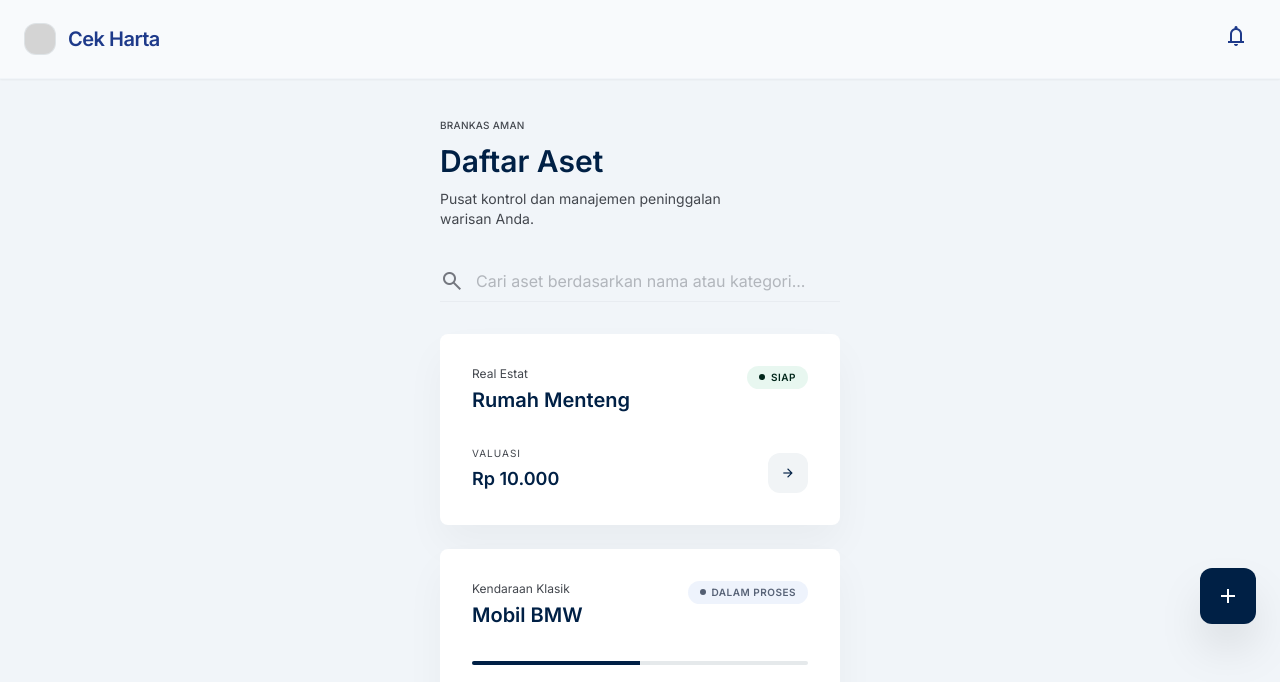
Test: Assets Page › bisa memfilter aset berdasarkan pencarian
Type "BMW" into the field labelled "Cari aset". click: (658, 280)
box: [476,268,840,292]
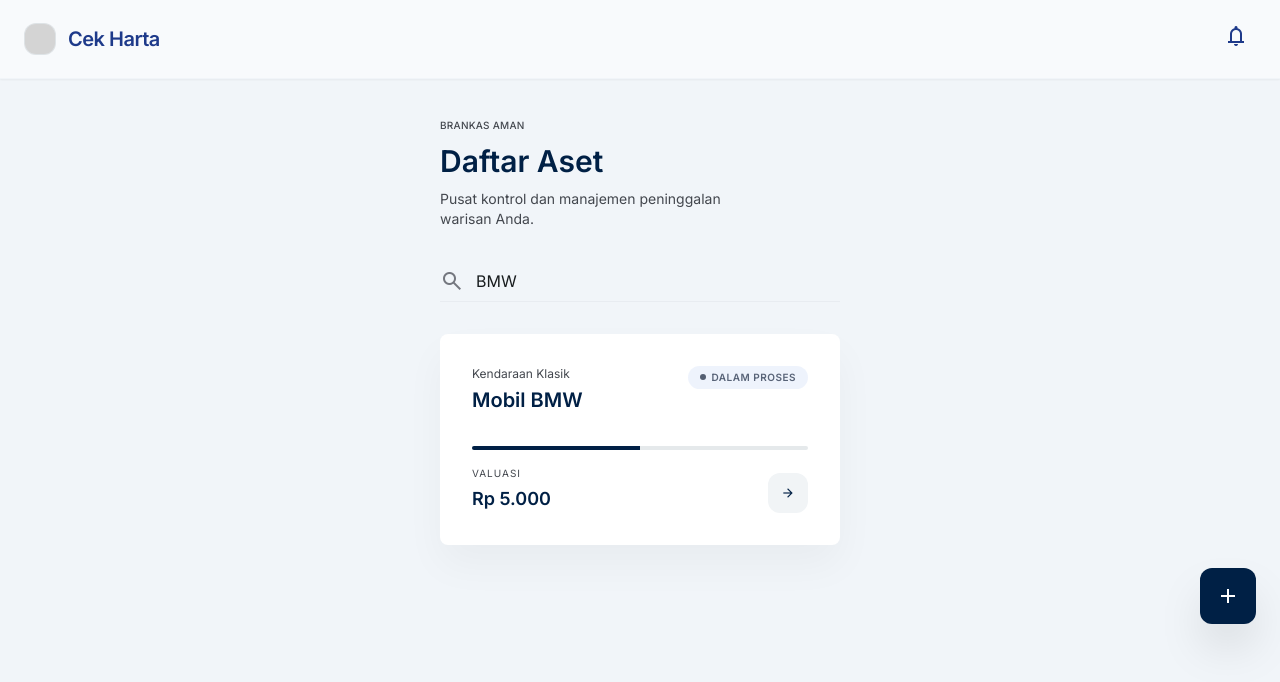
Expected: the heading "Mobil BMW" is shown, [472,386,583,414]
Expected: the link "Rumah Menteng" is gone
